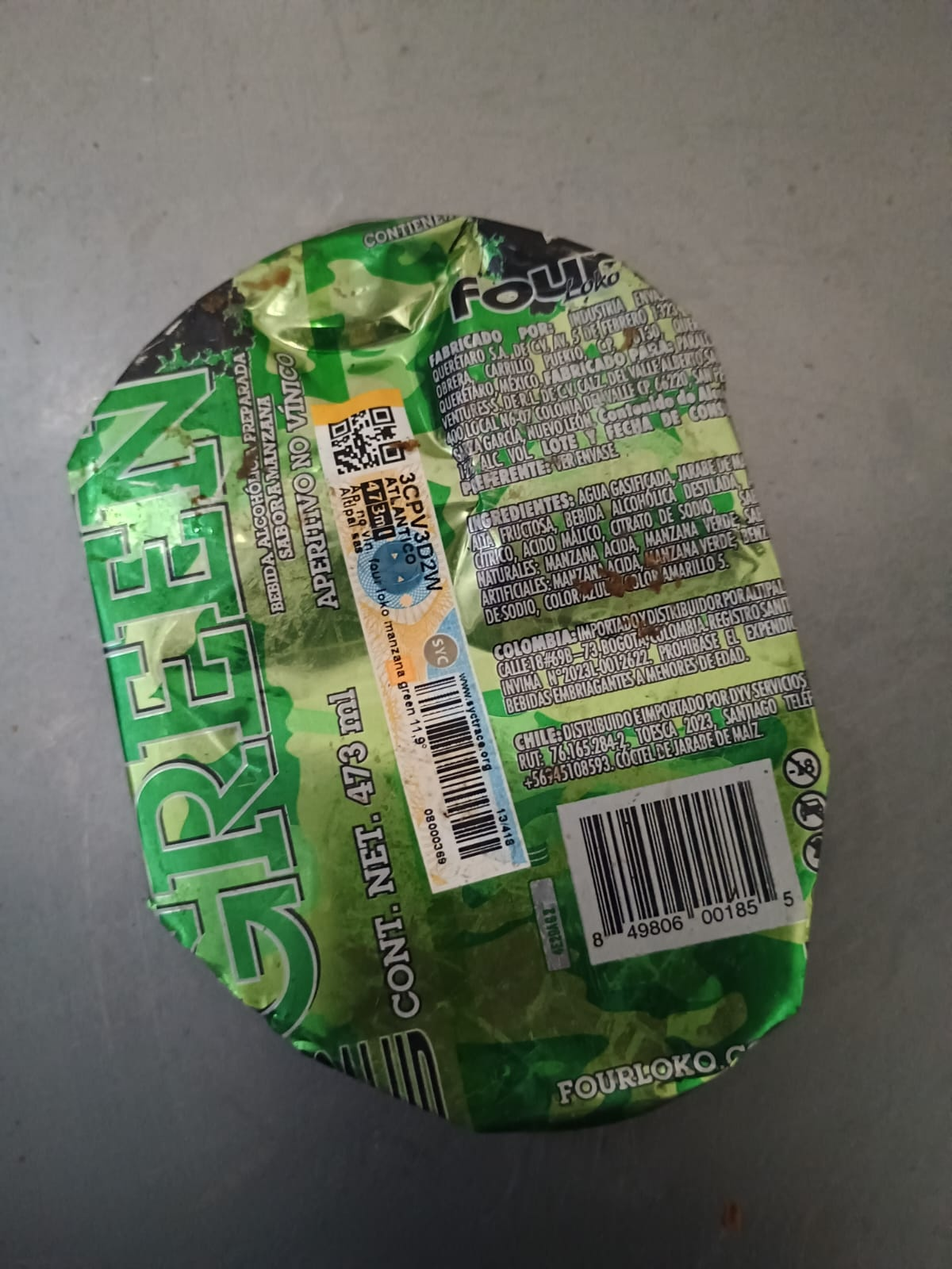Metal: (73, 214, 832, 1134)
